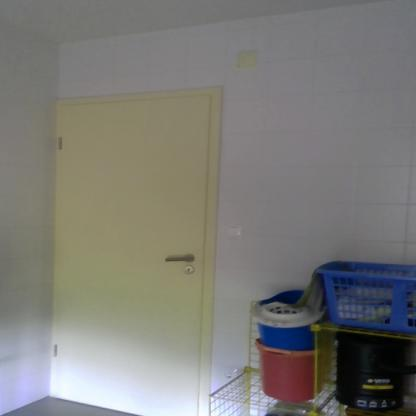door: (58, 106, 202, 416)
hinged: (52, 341, 58, 359), (58, 136, 64, 150)
lever: (163, 255, 196, 263)
